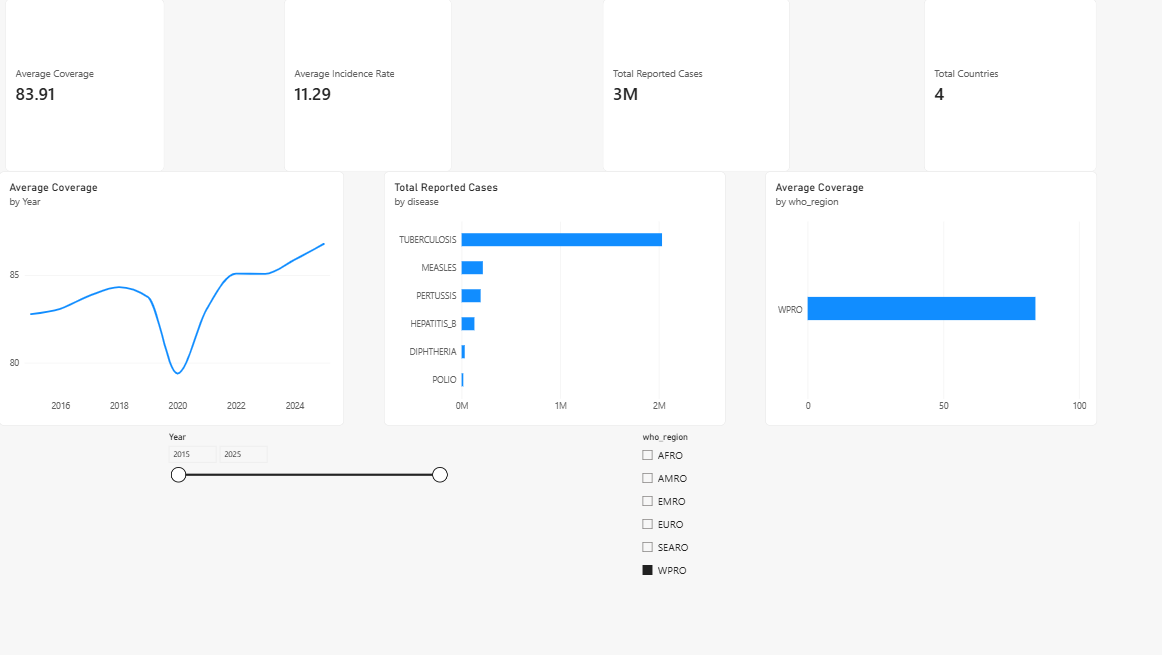

What the dashboard file says about the page in this screenshot:
{"tool":"powerbi","page":{"name":"Overview","canvas":[1920,1080],"ordinal":0},"visuals":[{"type":"cardVisual","fields":{"Data":["Year_Table.Average Coverage"]},"box":[10,0,262,284],"z":0},{"type":"cardVisual","fields":{"Data":["Year_Table.Average Incidence Rate"]},"box":[470,0,276,284],"z":1000},{"type":"cardVisual","fields":{"Data":["Year_Table.Total Countries"]},"box":[1524,0,284,284],"z":2000},{"type":"cardVisual","fields":{"Data":["Year_Table.Total Reported Cases"]},"box":[994,0,308,284],"z":3000},{"type":"lineChart","fields":{"Category":["Year_Table.Year"],"Y":["Year_Table.Average Coverage"]},"box":[0,284,568,418],"z":4000},{"type":"clusteredBarChart","fields":{"Category":["vaccination_analysis reported_cases.disease"],"Y":["Year_Table.Total Reported Cases"]},"box":[634,284,562,418],"z":5000},{"type":"clusteredBarChart","fields":{"Category":["vaccination_analysis countries.who_region"],"Y":["Year_Table.Average Coverage"]},"box":[1262,284,546,418],"z":6000},{"type":"slicer","fields":{"Values":["Year_Table.Year"]},"box":[272,712,470,368],"z":7000},{"type":"slicer","fields":{"Values":["vaccination_analysis countries.who_region"]},"box":[1052,712,472,368],"z":8000}]}

Visuals, with their boxes in screenshot pixels (x1, y1, x2, y2), scaled from the page's 1920x1080 canvas onto the 1162x655 screenshot:
cardVisual - Year_Table.Average Coverage: <region>6, 0, 165, 172</region>
cardVisual - Year_Table.Average Incidence Rate: <region>284, 0, 451, 172</region>
cardVisual - Year_Table.Total Countries: <region>922, 0, 1094, 172</region>
cardVisual - Year_Table.Total Reported Cases: <region>602, 0, 788, 172</region>
lineChart - Year_Table.Year x Year_Table.Average Coverage: <region>0, 172, 344, 426</region>
clusteredBarChart - vaccination_analysis reported_cases.disease x Year_Table.Total Reported Cases: <region>384, 172, 724, 426</region>
clusteredBarChart - vaccination_analysis countries.who_region x Year_Table.Average Coverage: <region>764, 172, 1094, 426</region>
slicer - Year_Table.Year: <region>165, 432, 449, 654</region>
slicer - vaccination_analysis countries.who_region: <region>637, 432, 922, 654</region>
